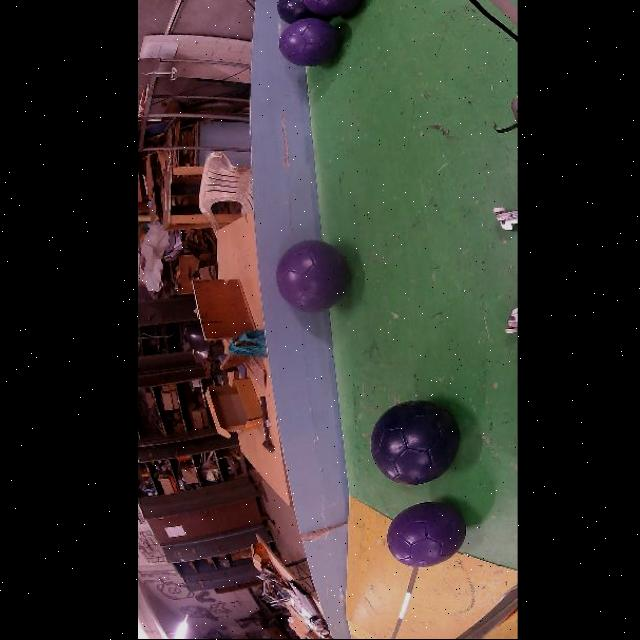B: (370, 401, 458, 486), (276, 0, 326, 23)
P: (385, 503, 465, 569), (275, 240, 347, 313), (277, 18, 337, 67), (301, 0, 359, 17)
